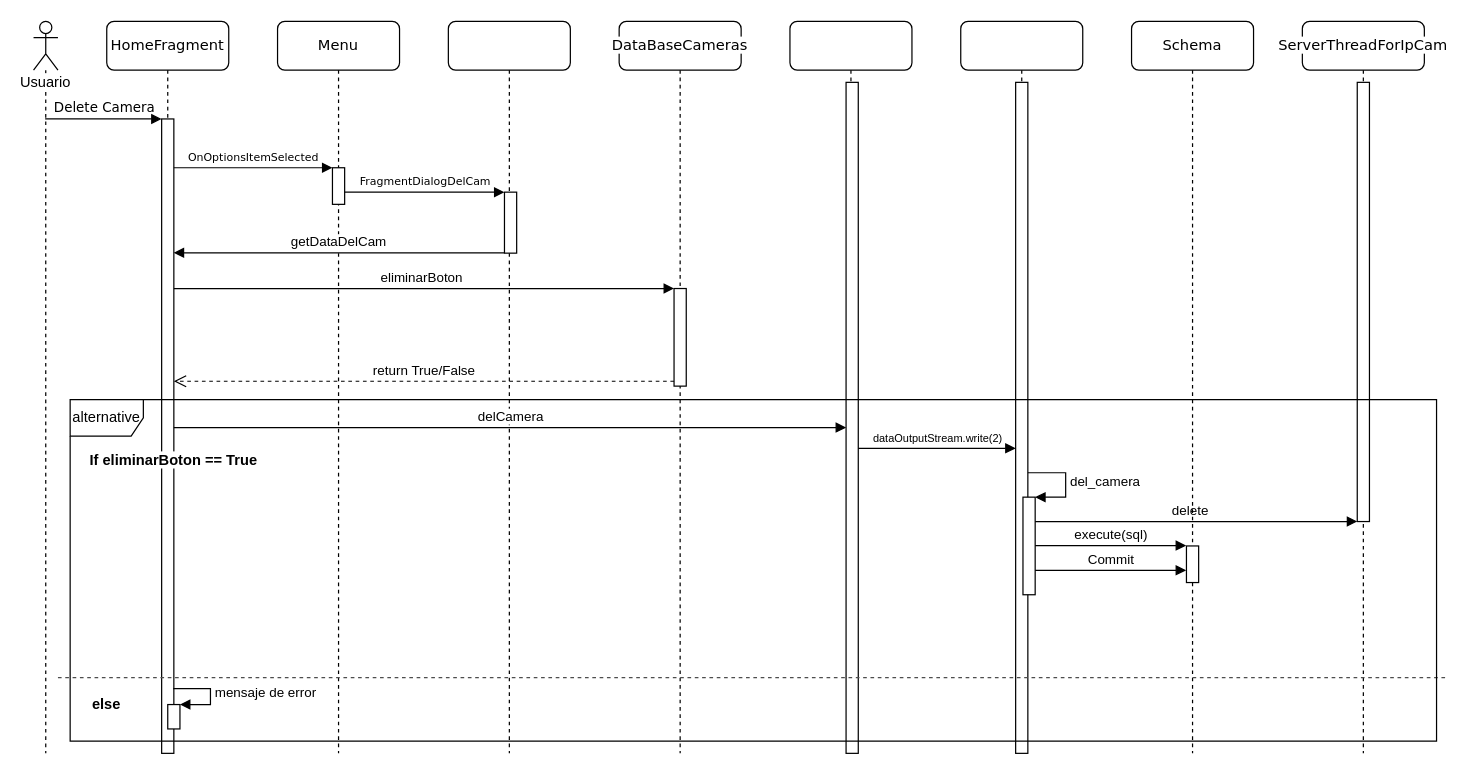
Image size: 1471x775. Some labels were removed from this diagram. The shapes that lost their labels are listed below. From the top down, each one's box as (x1, y1, x2, y2) in pixels, then its label:
(960, 20, 1083, 656): MainServer
(447, 20, 570, 753): FragmentDialogNewCam
(789, 20, 912, 753): ServerTCPConnexion
